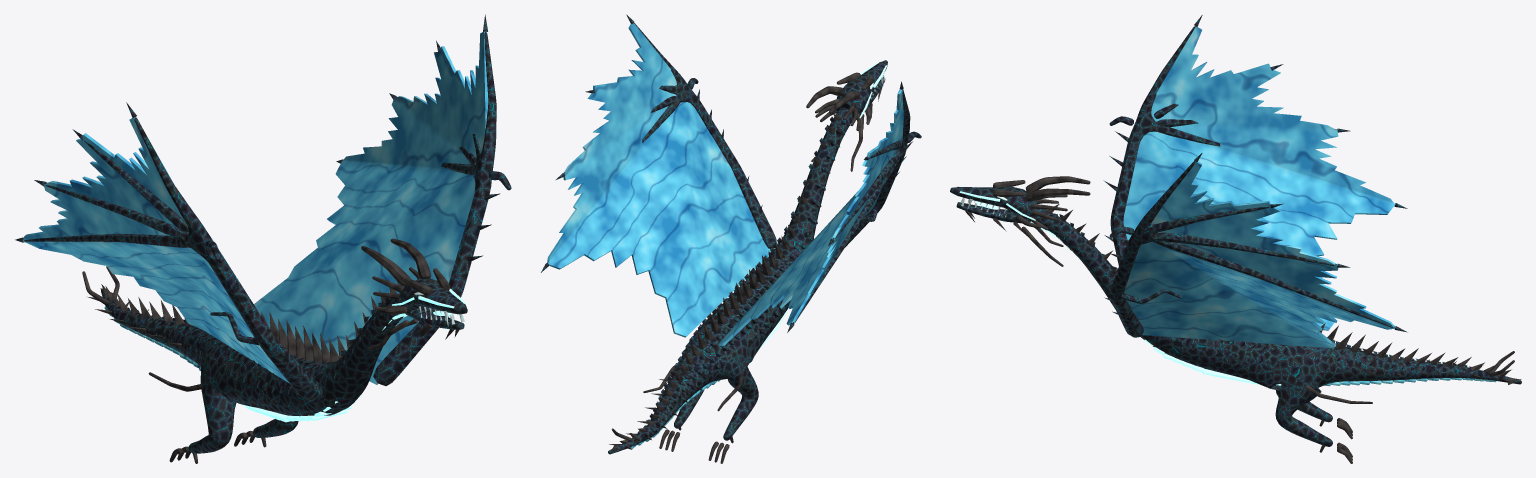
The model's file is ember_wyvern.fbx.
3 renders of one model, left to right at view 1: azimuth 30°, elevation 25°; view 2: azimuth 150°, elevation 25°; view 3: azimuth 270°, elevation 25°, orthographic. The views are drawn at different scales.
Visible parts, largest first — view 1: Wing_L, Wing_R, Body, Trim, Light; view 2: Wing_L, Body, Wing_R, Trim; view 3: Wing_R, Wing_L, Body, Trim, Light.
Boxes of the visible parts, bbox=[...] form: Wing_L: bbox=[254, 14, 511, 385]; Wing_R: bbox=[15, 102, 322, 403]; Body: bbox=[101, 278, 467, 453]; Trim: bbox=[82, 238, 465, 463]; Light: bbox=[241, 288, 466, 422]; Wing_L: bbox=[541, 14, 776, 337]; Body: bbox=[608, 60, 887, 454]; Wing_R: bbox=[718, 81, 921, 345]; Trim: bbox=[609, 62, 886, 463]; Wing_R: bbox=[1103, 15, 1407, 330]; Wing_L: bbox=[1103, 153, 1407, 347]; Body: bbox=[950, 186, 1521, 446]; Trim: bbox=[957, 176, 1521, 463]; Light: bbox=[959, 186, 1281, 385].
Size of the model in its own units: 3.73 by 4.55 by 6.45.
Materials: 7 (5 with a texture image).
